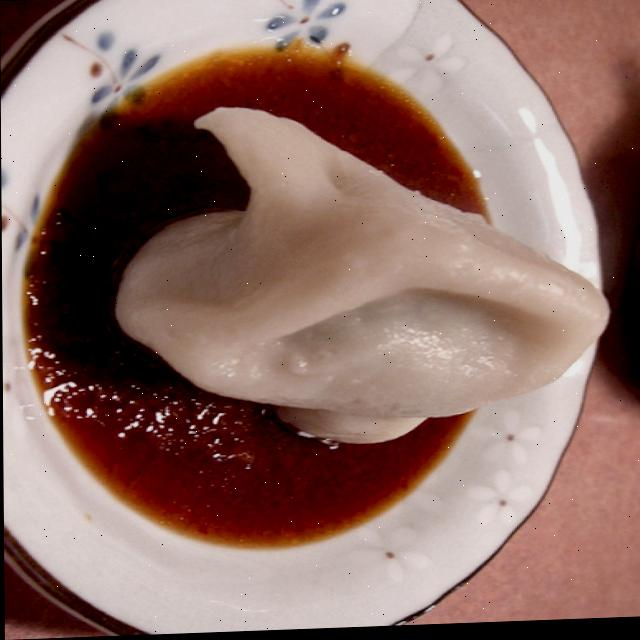带馅早点: (12, 0, 640, 606)
